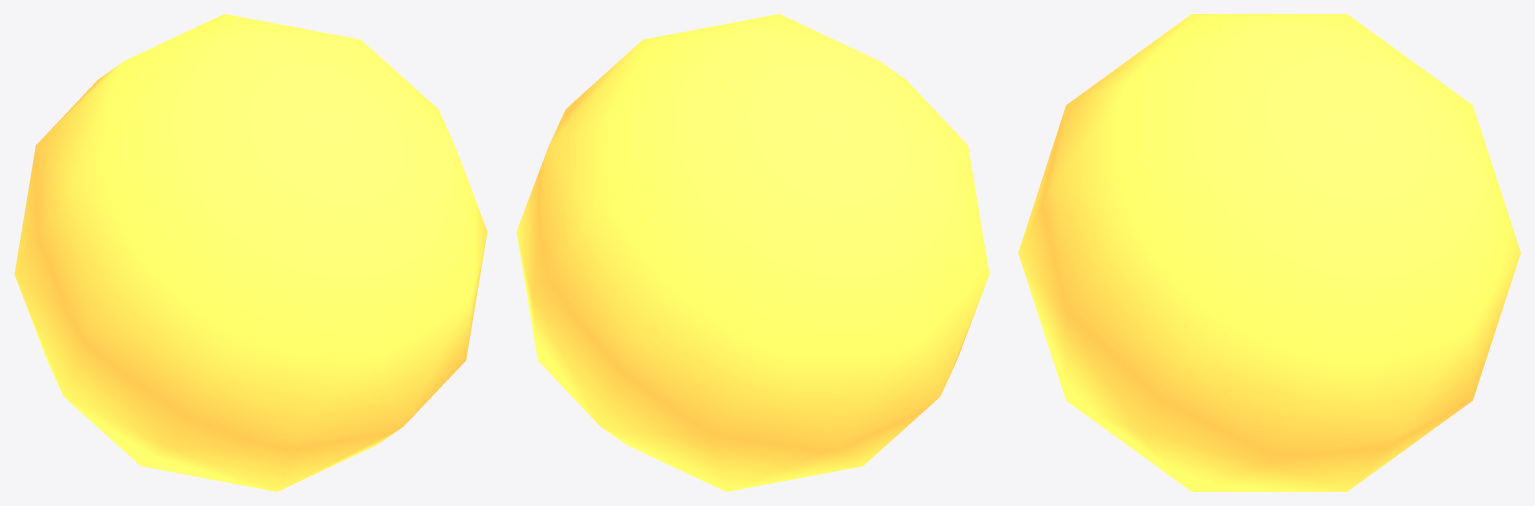
The model's file is fireball.gltf.
3 renders of one model, left to right at view 1: azimuth 30°, elevation 25°; view 2: azimuth 150°, elevation 25°; view 3: azimuth 270°, elevation 25°, orthographic. The views are drawn at different scales.
Visible parts, largest first — view 1: fireball; view 2: fireball; view 3: fireball.
Boxes of the visible parts, x1,y1,x2,y2 form: fireball: (14,14,487,491); fireball: (516,14,989,491); fireball: (1018,14,1520,491).
Bounding box in the file's own units: 0.3043 × 0.32 × 0.32.
